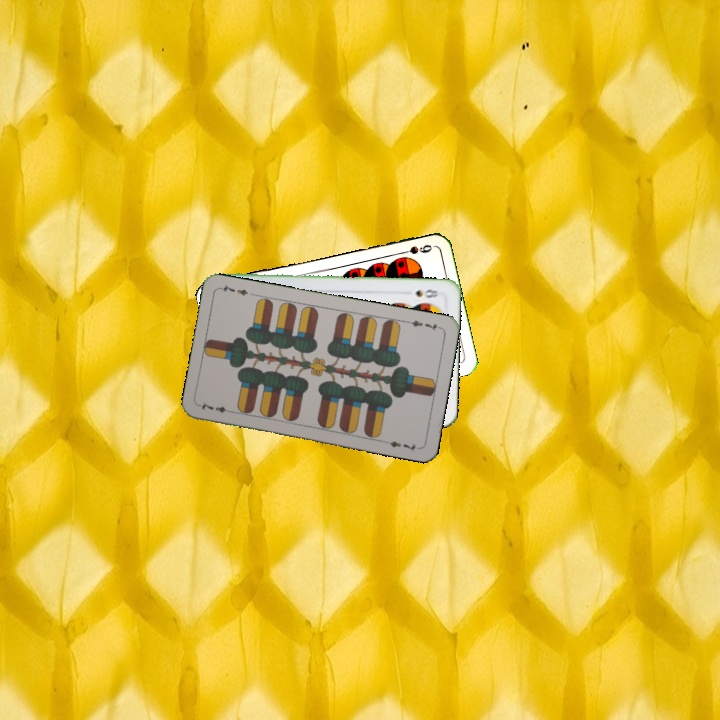E7: (196, 398, 236, 416), (403, 316, 443, 333)
S8: (412, 285, 441, 300)
S9: (395, 240, 434, 257)
